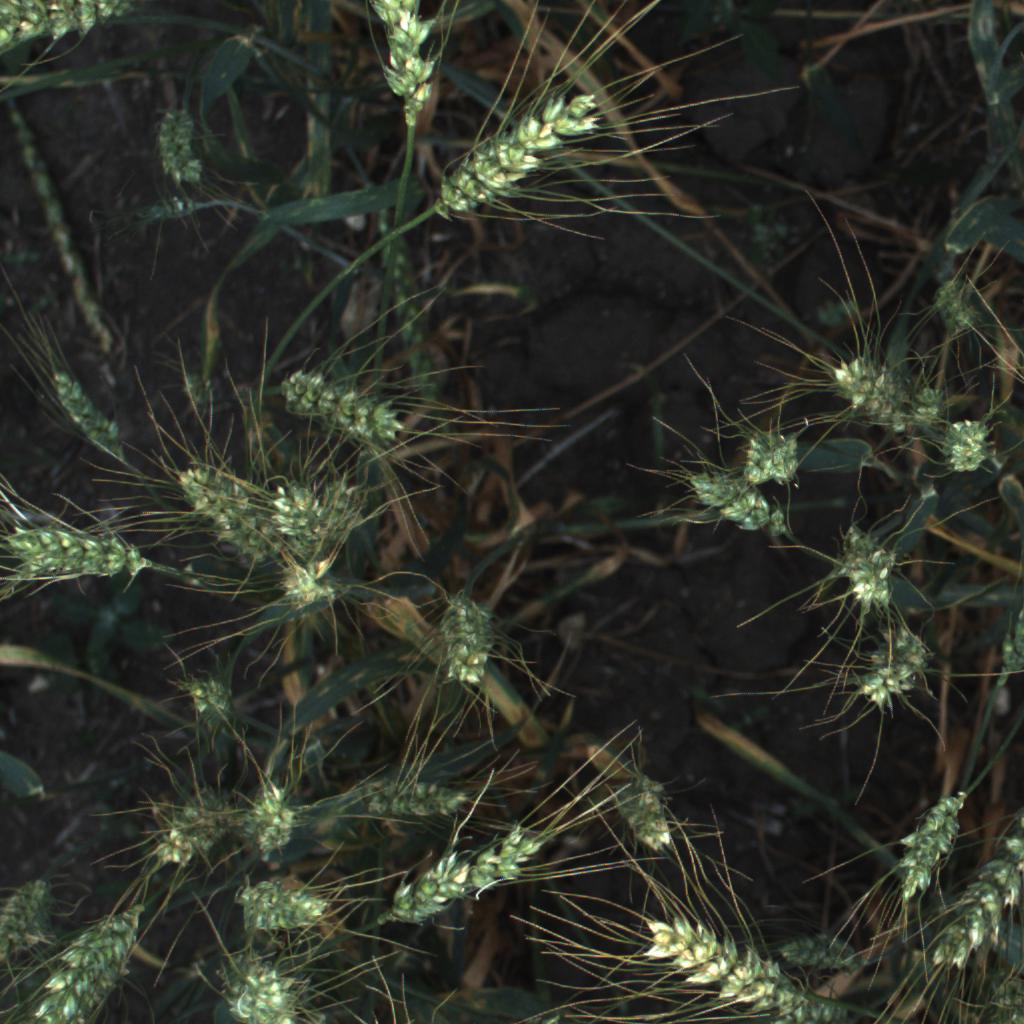0-0: (421, 80, 611, 227), (629, 902, 854, 1024), (370, 814, 561, 945), (924, 813, 1024, 982), (33, 905, 160, 1024), (875, 768, 974, 912), (165, 459, 291, 570), (670, 444, 800, 547), (832, 609, 945, 719), (2, 516, 154, 593), (38, 355, 136, 473), (274, 368, 412, 451), (361, 0, 442, 138), (714, 410, 810, 514), (593, 761, 689, 860), (828, 343, 931, 433), (429, 581, 505, 699), (828, 512, 904, 625), (0, 0, 130, 66), (231, 866, 342, 942), (265, 472, 343, 564), (340, 776, 483, 826), (0, 863, 55, 986), (223, 962, 327, 1024), (152, 95, 211, 200), (146, 811, 239, 869), (775, 929, 866, 983), (175, 663, 244, 728), (249, 780, 302, 861), (944, 412, 1005, 482), (926, 276, 988, 344), (992, 606, 1024, 696), (266, 566, 340, 601)
